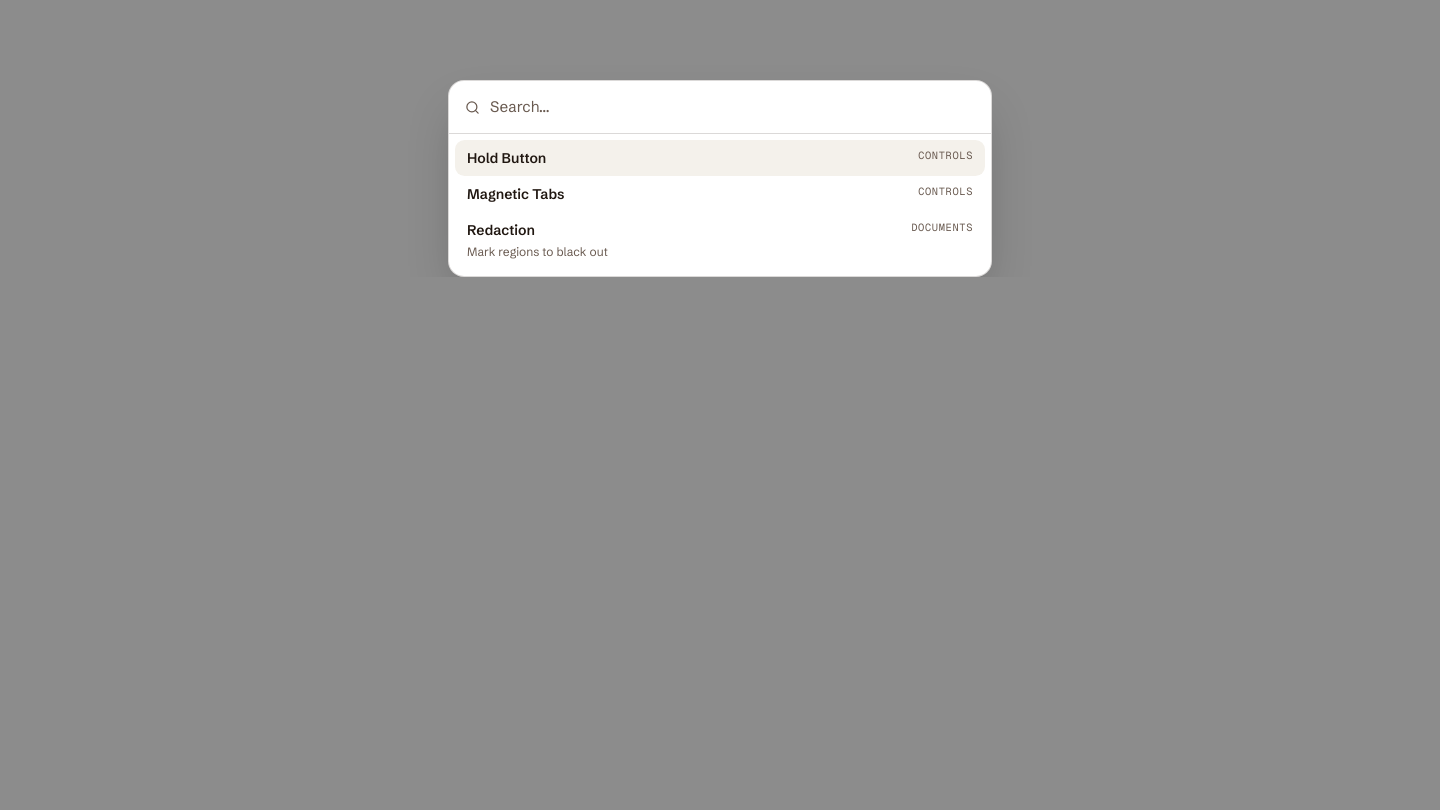
Test: ranking of your own › drops an item the ranker refuses
Type "hold" into the dropdown at (732, 107), box 490,81 -> 975,133
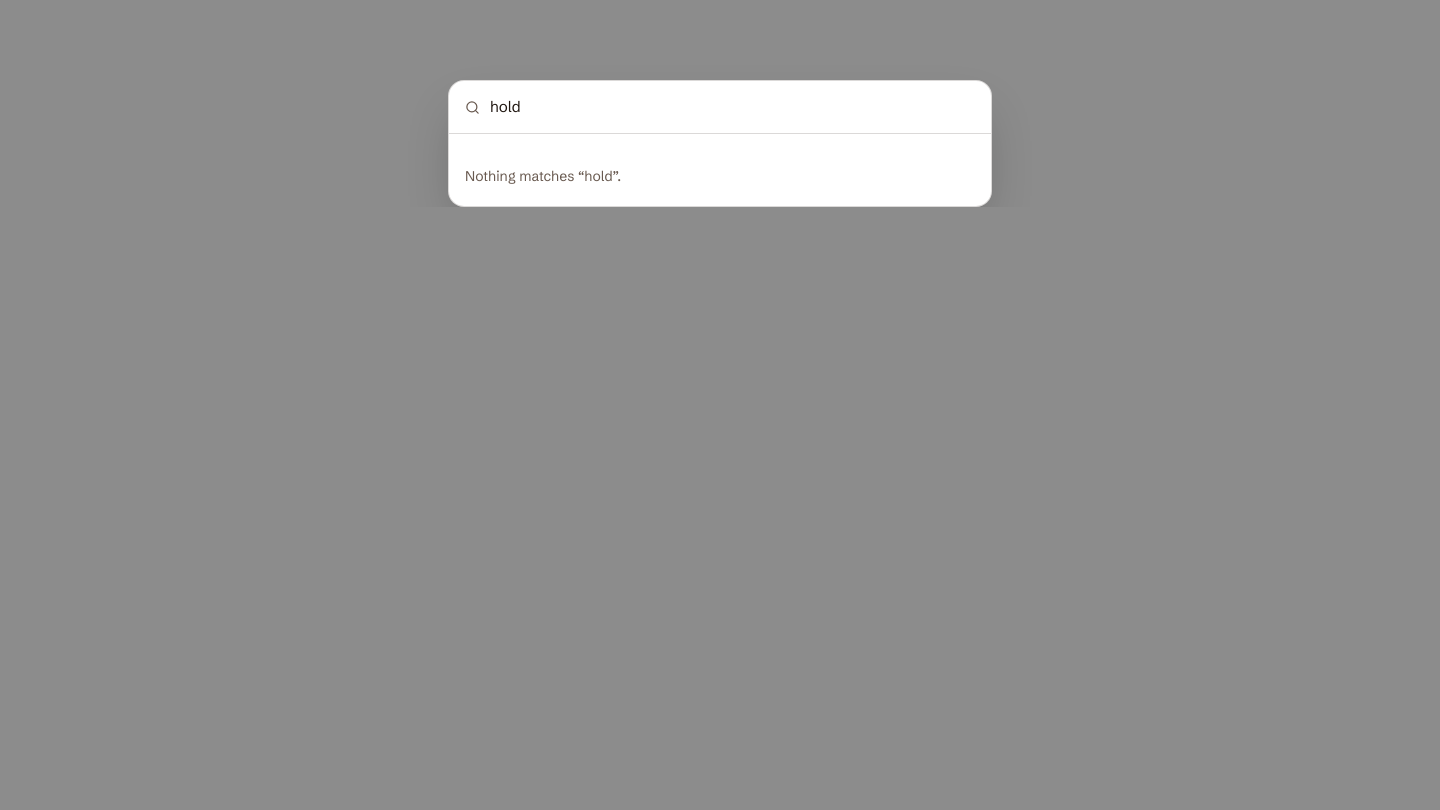
Result: the option is gone
